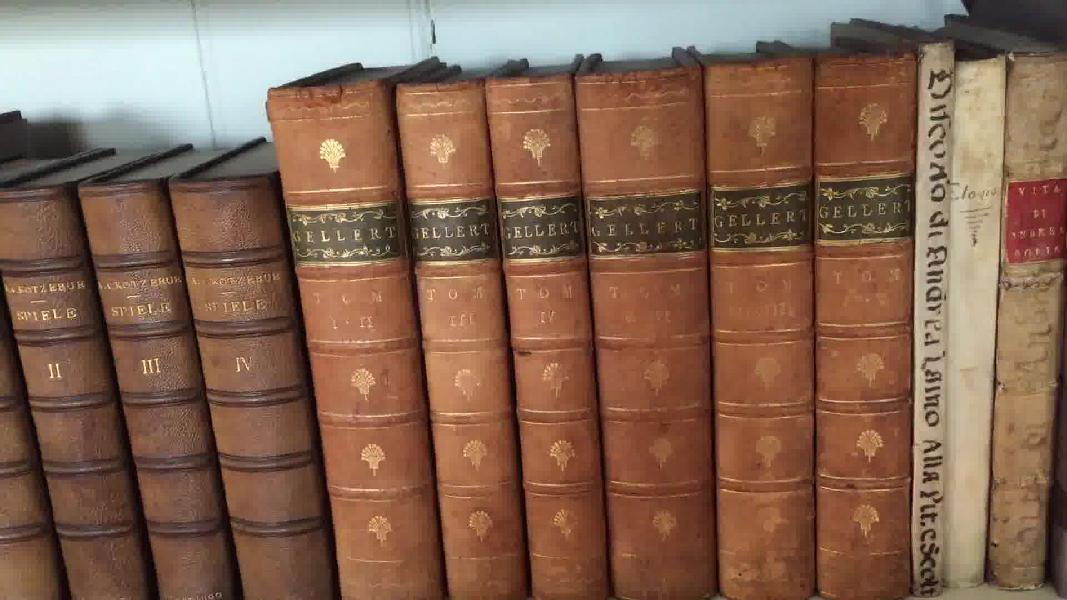Aa6-18_23: (250, 40, 916, 600)
Aa6-24: (909, 24, 958, 588)
Aa6-25: (954, 55, 1008, 586)
Aa6-26: (985, 36, 1067, 587)
